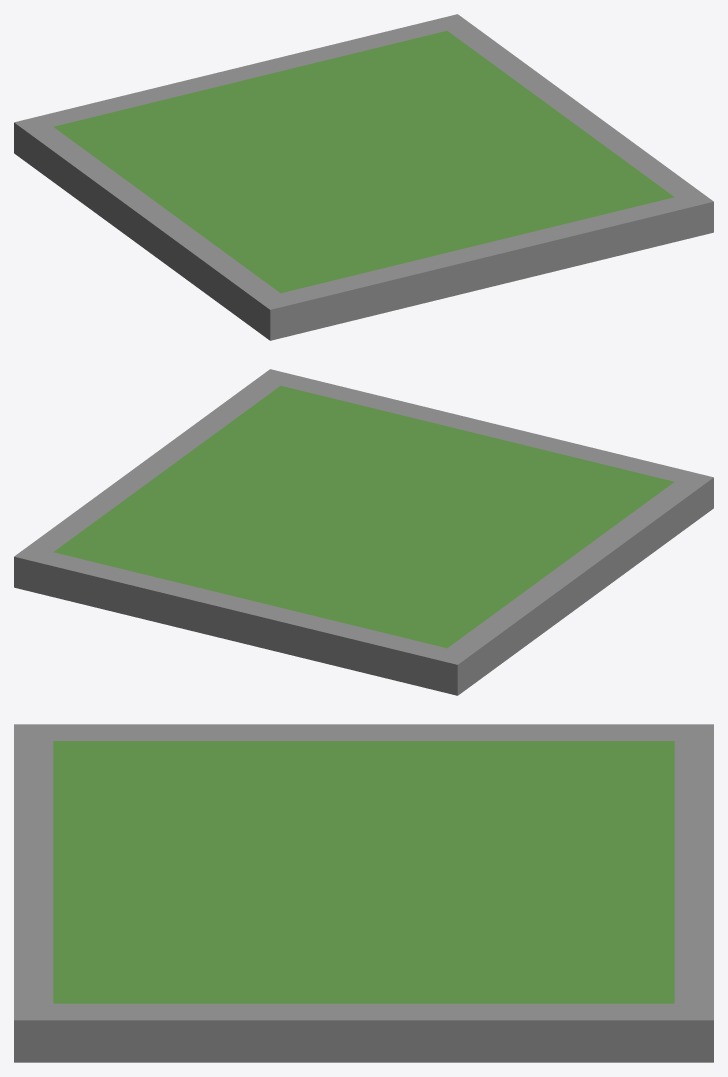
Rendered from shuci.FBX.
3 views of the same model, one above another, from view 1: azimuth 30°, elevation 25°; view 2: azimuth 150°, elevation 25°; view 3: azimuth 270°, elevation 25° (orthographic). The views are drawn at different scales.
Parts seen in each view (by area): view 1: shuci; view 2: shuci; view 3: shuci.
Part boxes in pixels (x1,y1,x2,y2): shuci: (14, 14, 713, 340); shuci: (14, 369, 713, 695); shuci: (14, 724, 713, 1062).
Size of the model in its own units: 3.29 by 0.2194 by 3.29.
